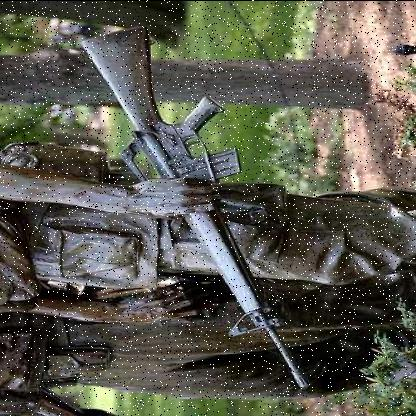rifle: (61, 17, 355, 395)
